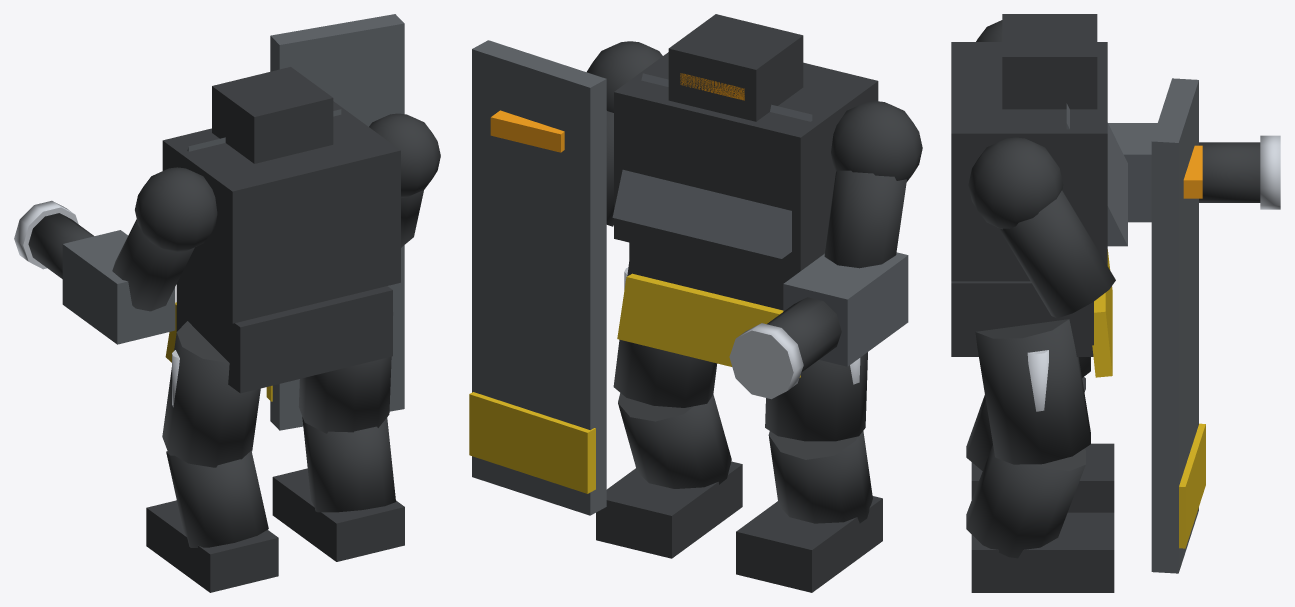
File: Robot_Tanker.obj
3 renders of one model, left to right at view 1: azimuth 30°, elevation 25°; view 2: azimuth 150°, elevation 25°; view 3: azimuth 270°, elevation 25°, orthographic. The views are drawn at different scales.
Parts seen in each view (by area): view 1: Robot_Tanker; view 2: Robot_Tanker; view 3: Robot_Tanker.
Part boxes in pixels (box(x1,y1,x2,y2)): Robot_Tanker: box(14, 14, 440, 592); Robot_Tanker: box(469, 14, 922, 592); Robot_Tanker: box(951, 14, 1280, 592).
Size of the model in its own units: 1.28 by 1.64 by 0.97.
